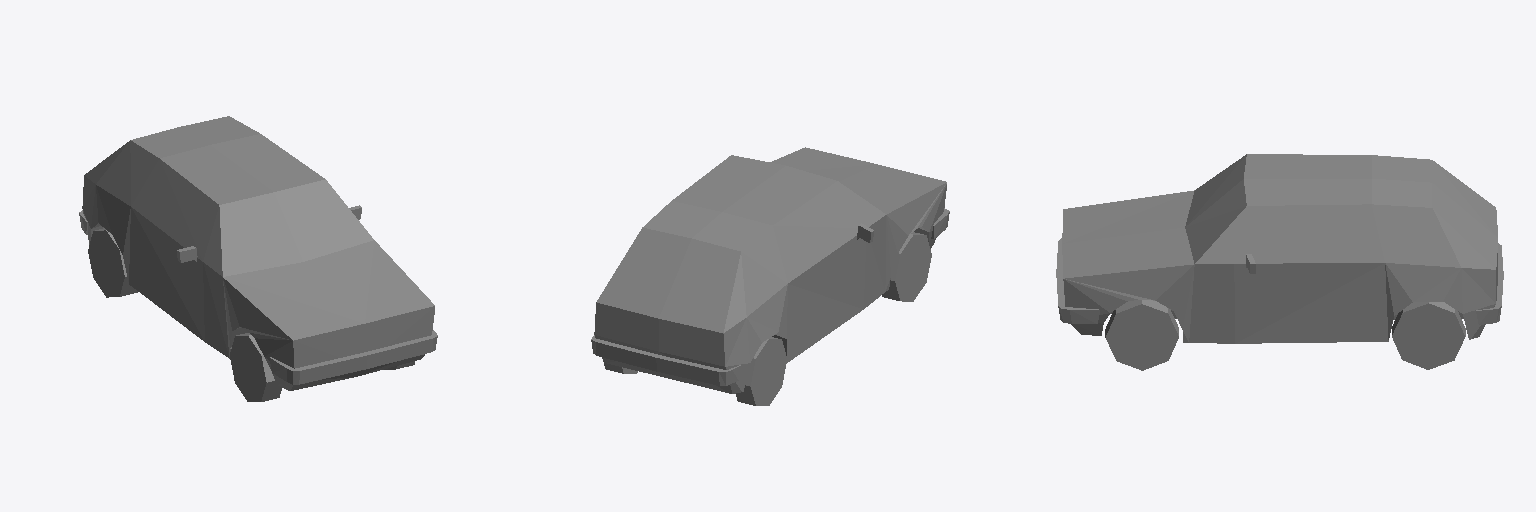
File: Car3.obj
The picture shows the model from 3 angles: view 1: azimuth 30°, elevation 25°; view 2: azimuth 150°, elevation 25°; view 3: azimuth 270°, elevation 25°; orthographic projection.
Parts seen in each view (by area): view 1: Car3; view 2: Car3; view 3: Car3.
Part boxes in pixels (bbox=[...]): Car3: bbox=[79, 116, 437, 401]; Car3: bbox=[591, 147, 949, 405]; Car3: bbox=[1056, 154, 1503, 370].
Bounding box in the file's own units: 2.65 × 2.14 × 5.61.